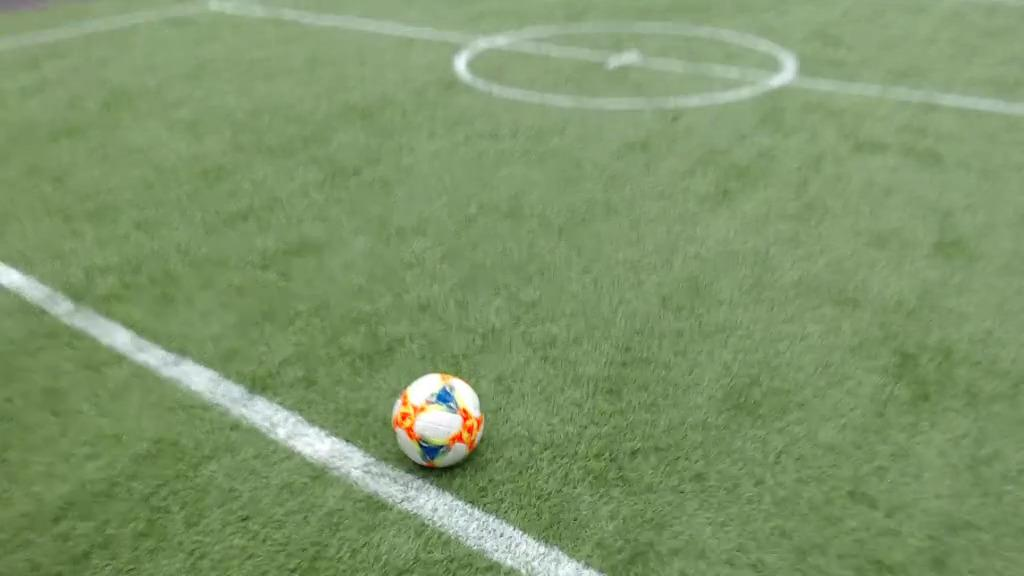ball: (394, 372, 482, 469)
